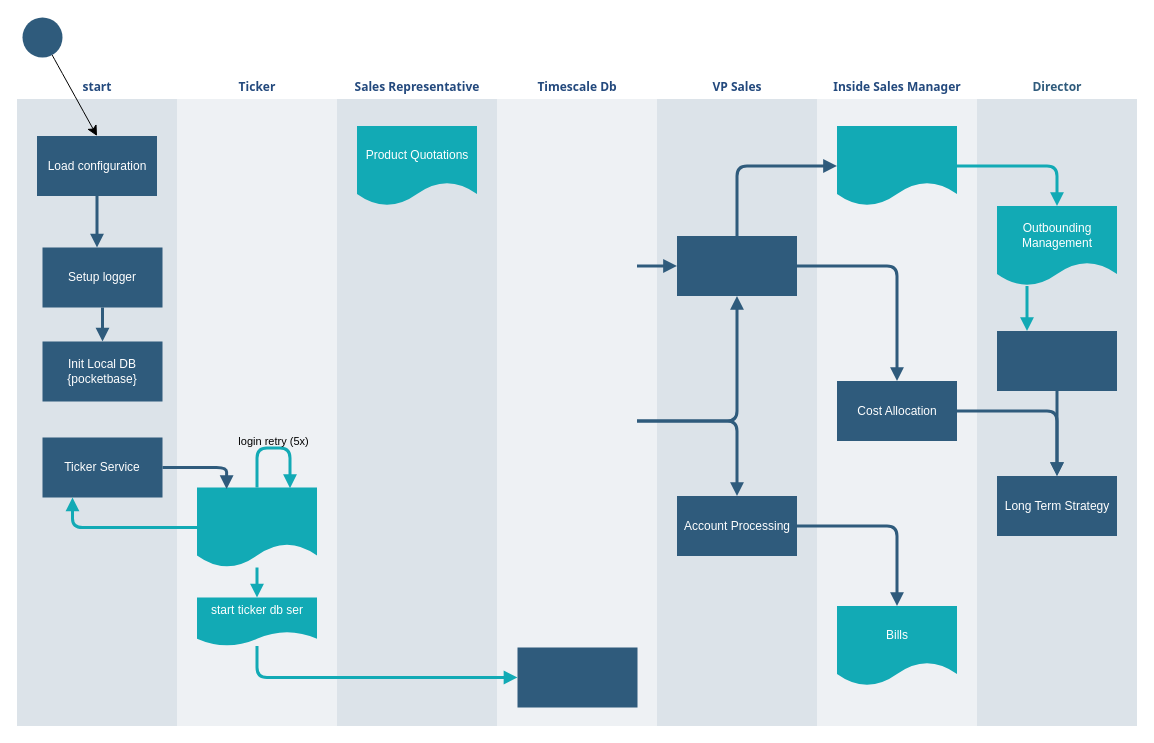
Image size: 1154x743. Some labels were removed from this diagram. The shapes that lost their labels are listed below. From the top down, each one's centre as x and y in pixels, then its label:
At point (896, 166): "Sales Contract".
At point (736, 266): "Outbound Accounting".
At point (1056, 360): "Resources Allocation".
At point (256, 527): "Login Zerodha Ticker (app.admin_id)".
At point (577, 677): "store ticks (db.ticker_batchsize)".
